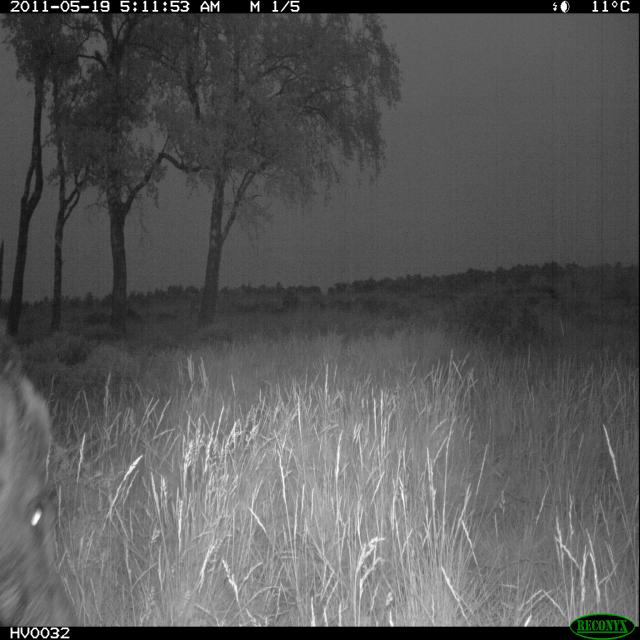boar: (0, 303, 111, 625)
